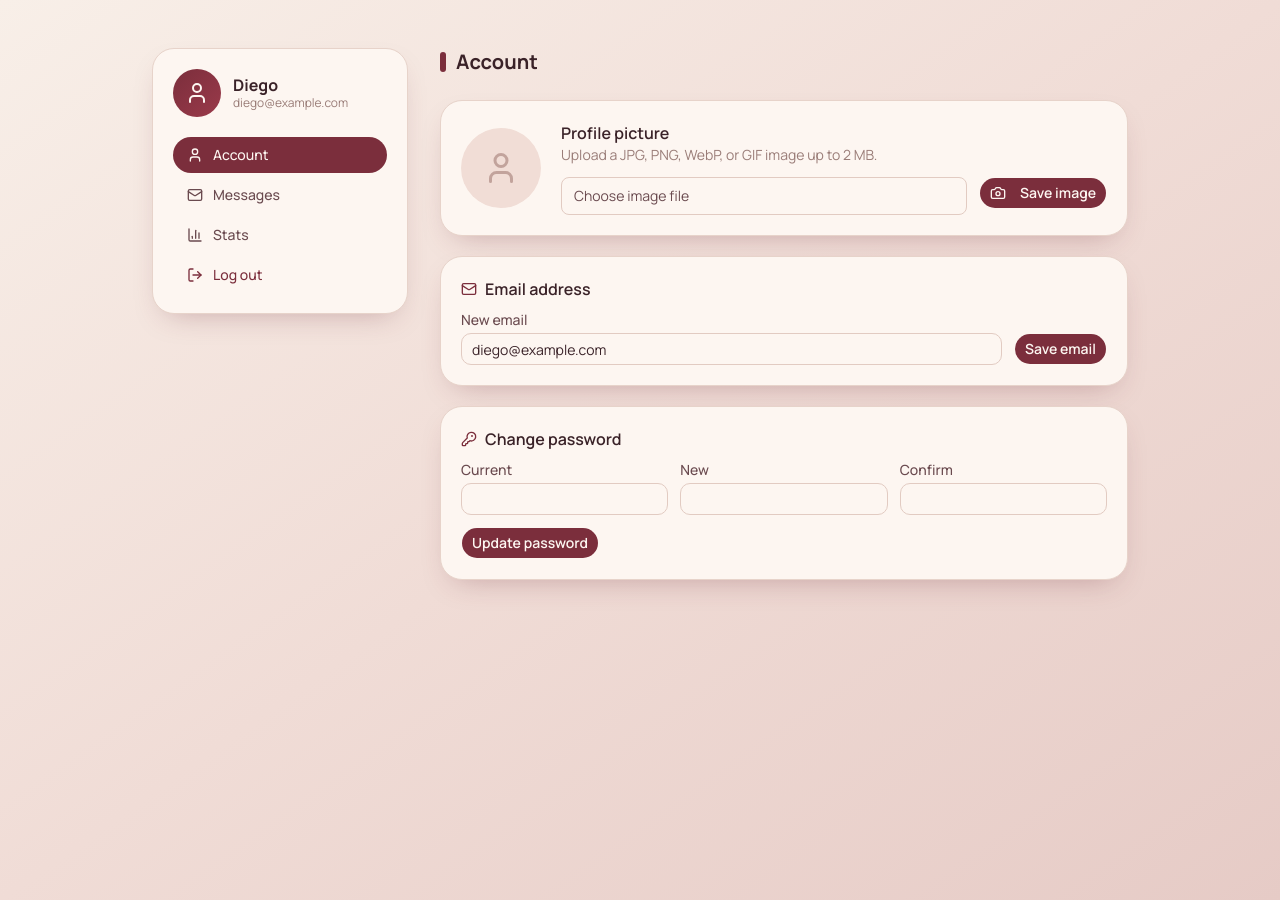
Test: AccountPage › shows game statistics returned by the account endpoint
The image size is (1280, 900).
Click the button "Stats": (280, 235) [173,217,387,253]
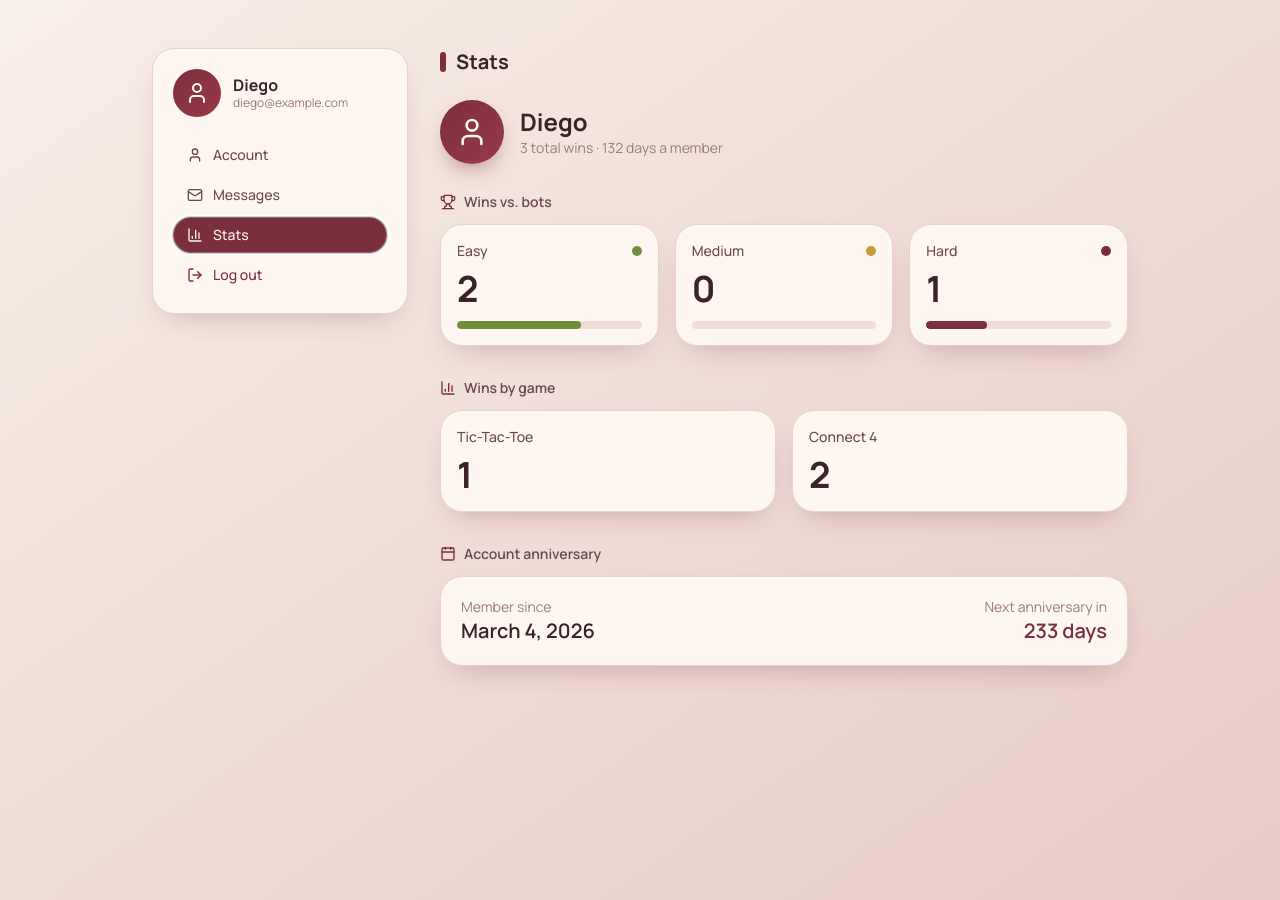
Result: the text "3 total wins · 132 days a member" is shown at [520,138,723,158]
Result: the text "Easy" is shown at [457,241,488,261]
Result: the text "Medium" is shown at [692,241,744,261]
